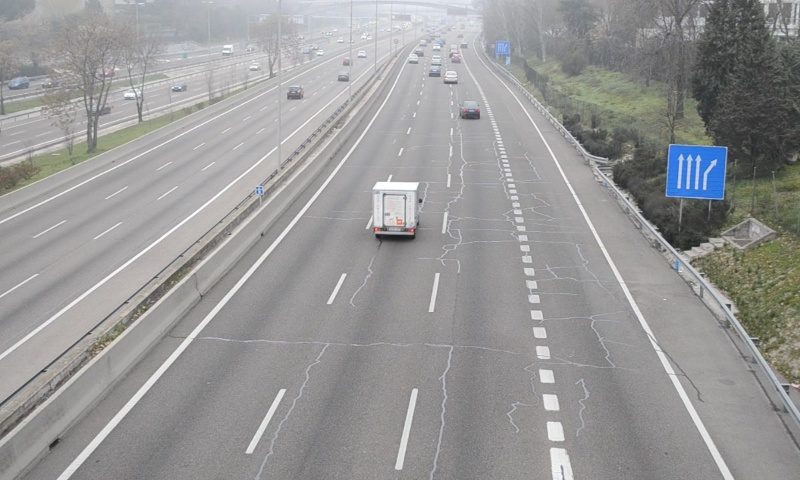car: (458, 99, 482, 118)
small-truck: (372, 182, 421, 236)
